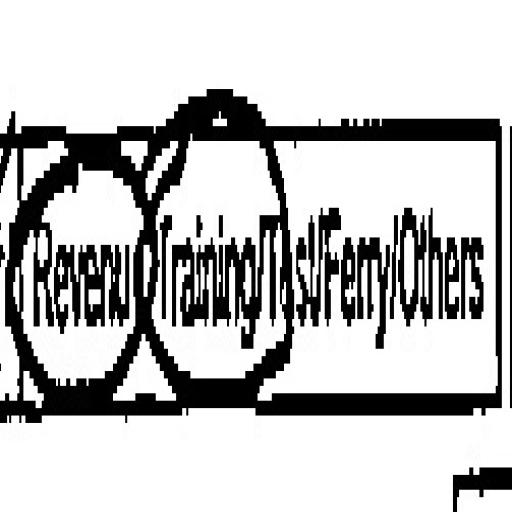check: (0, 9, 146, 452), (151, 27, 260, 467)
